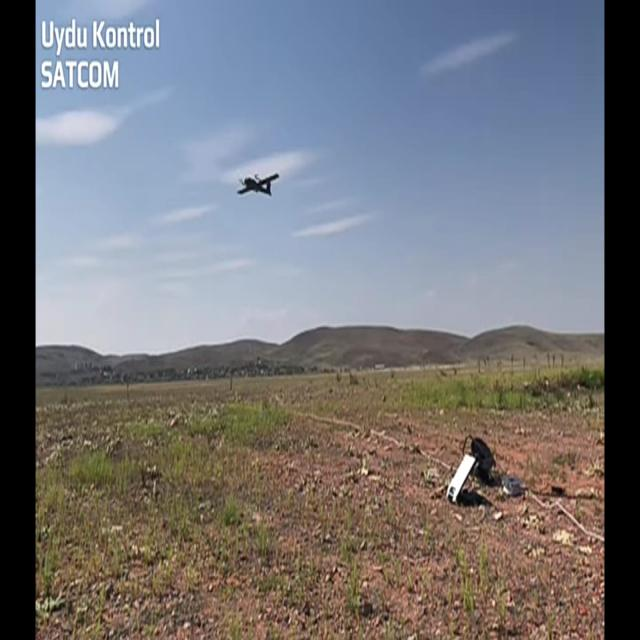iha: (237, 171, 280, 198)
